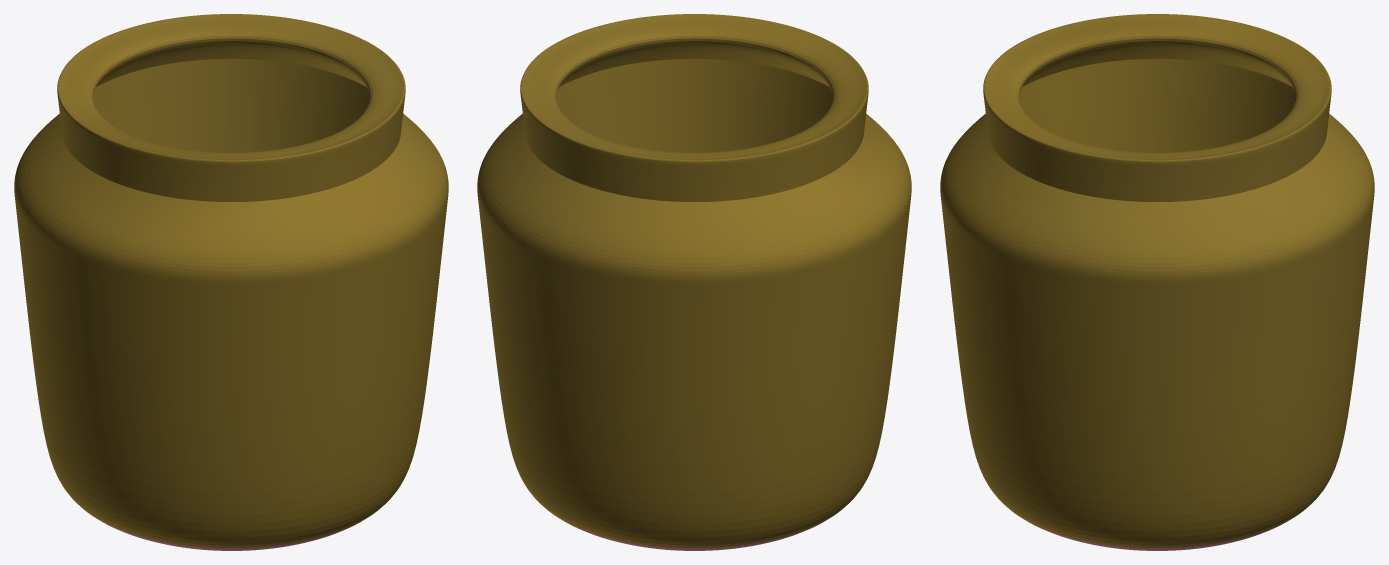
The model's file is vaas2.fbx.
3 views of the same model, side by side, from view 1: azimuth 30°, elevation 25°; view 2: azimuth 150°, elevation 25°; view 3: azimuth 270°, elevation 25° (orthographic).
Visible parts, largest first — view 1: Circle; view 2: Circle; view 3: Circle.
Boxes of the visible parts, <box> form: Circle: <box>14,14,448,550</box>; Circle: <box>477,14,911,550</box>; Circle: <box>940,14,1374,550</box>.
Size of the model in its own units: 321 by 335 by 321.
Materials: 1 (1 with a texture image).
